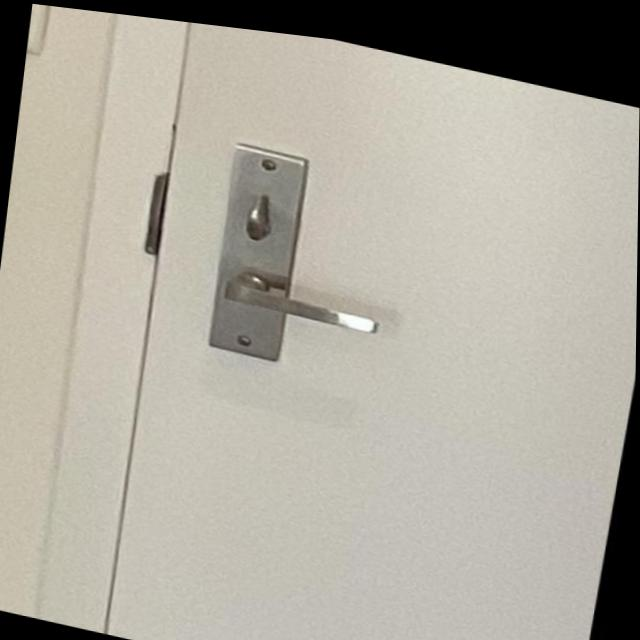door_handle: (202, 250, 405, 343)
